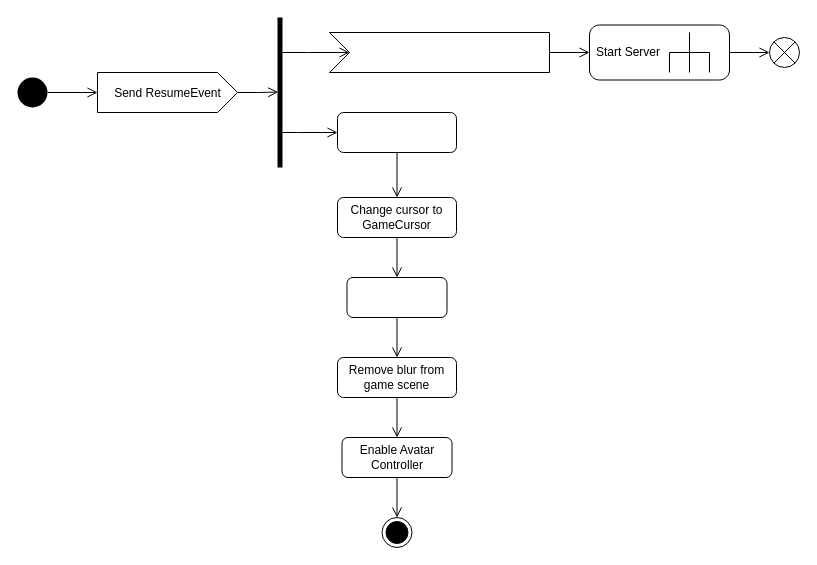
Some shapes in this 817 by 565 pixel diagram are drawn without their labels. Here are the shapes that lost their labels. From the top down, the centre of each, then its label:
point (439, 52): Receive ResumeEvent by Server
point (396, 132): Hide Pause Menu
point (396, 297): Show HUD
